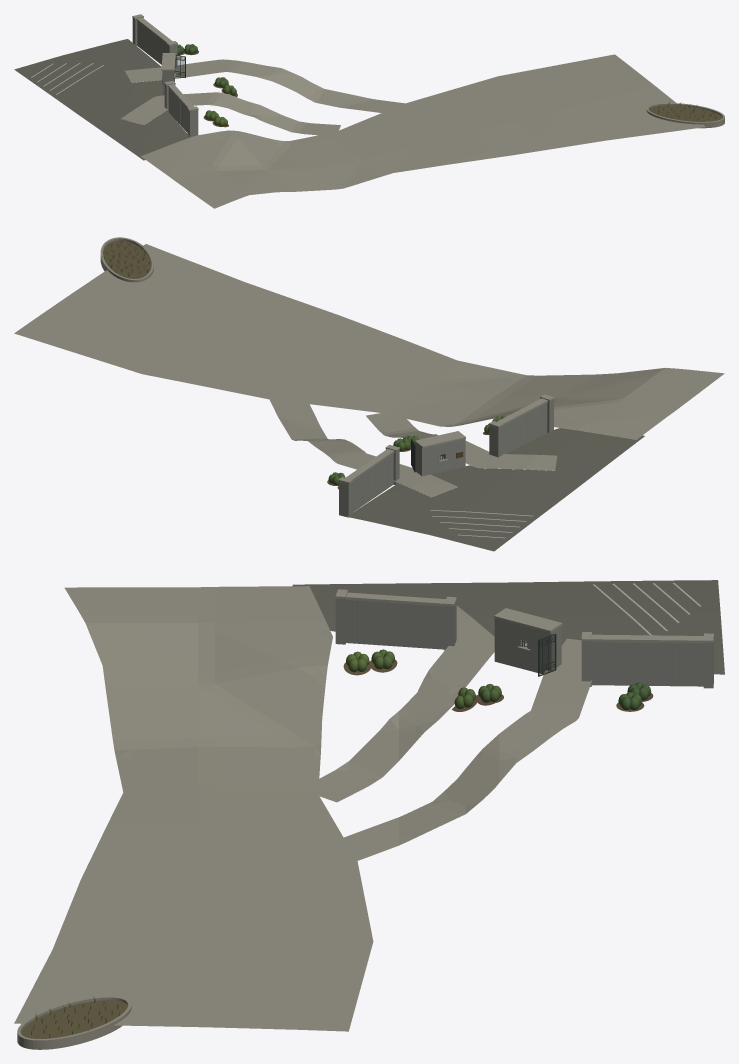
File: site.glb
The picture shows the model from 3 angles, top to bottom: view 1: azimuth 30°, elevation 25°; view 2: azimuth 150°, elevation 25°; view 3: azimuth 270°, elevation 25°; orthographic projection. The views are drawn at different scales.
Visible parts, largest first — view 1: howe-field-gates-plaza, howe-field-gates-detail, howe-field-gates-planting; view 2: howe-field-gates-plaza, howe-field-gates-detail, howe-field-gates-planting; view 3: howe-field-gates-plaza, howe-field-gates-detail, howe-field-gates-planting.
Part boxes in pixels (box(x1,y1,x2,y2)): howe-field-gates-plaza: box(14, 39, 705, 208); howe-field-gates-detail: box(31, 14, 724, 137); howe-field-gates-planting: box(177, 44, 717, 126); howe-field-gates-plaza: box(14, 244, 724, 551); howe-field-gates-detail: box(100, 237, 554, 538); howe-field-gates-planting: box(102, 239, 505, 485); howe-field-gates-plaza: box(14, 580, 724, 1031); howe-field-gates-detail: box(17, 583, 713, 1049); howe-field-gates-planting: box(30, 649, 651, 1037).
Bounding box in the file's own units: 50.74 × 5.11 × 36.1.
